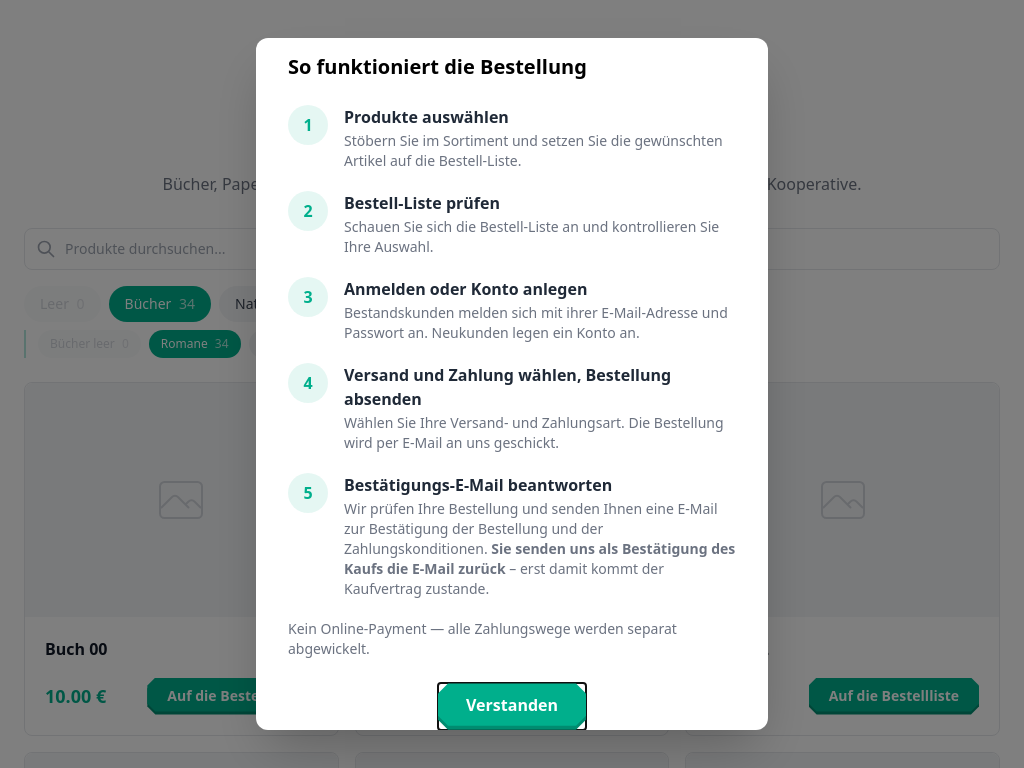
Test: the welcome dialog › remembers that it was read
(page scrolled)
What coordinates should you click on to do the following:
click the button "Verstanden"
I would click on:
 (512, 707)
Its box is [438, 683, 586, 730].
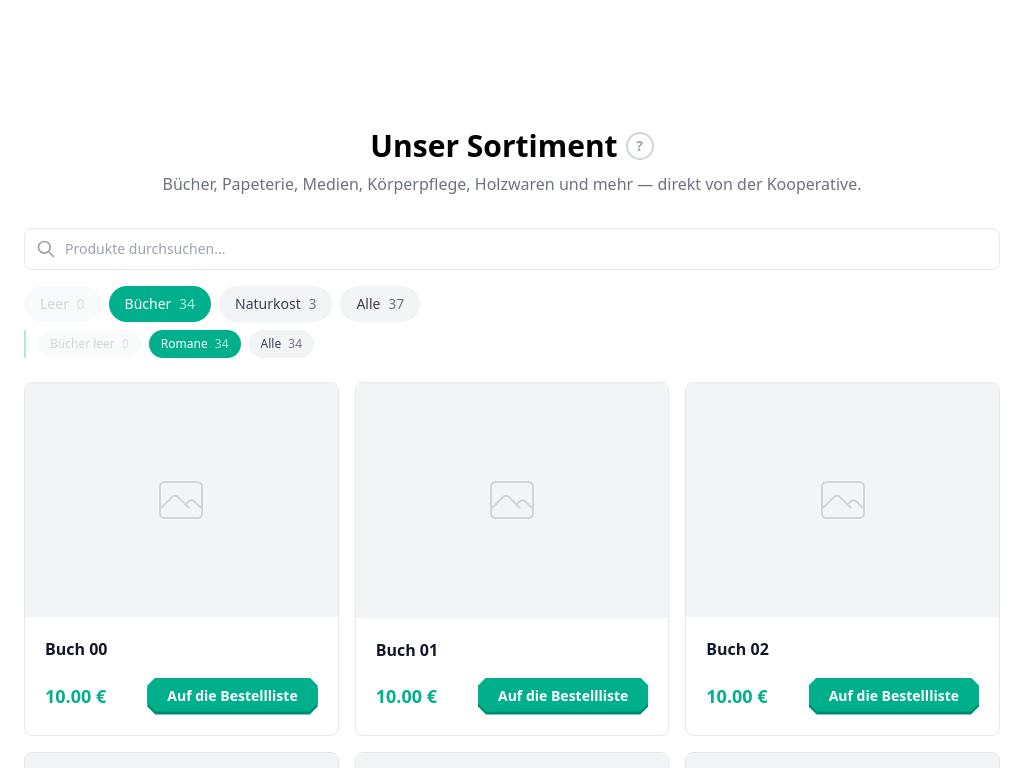
Check: the text "So funktioniert die Bestellung" is gone
